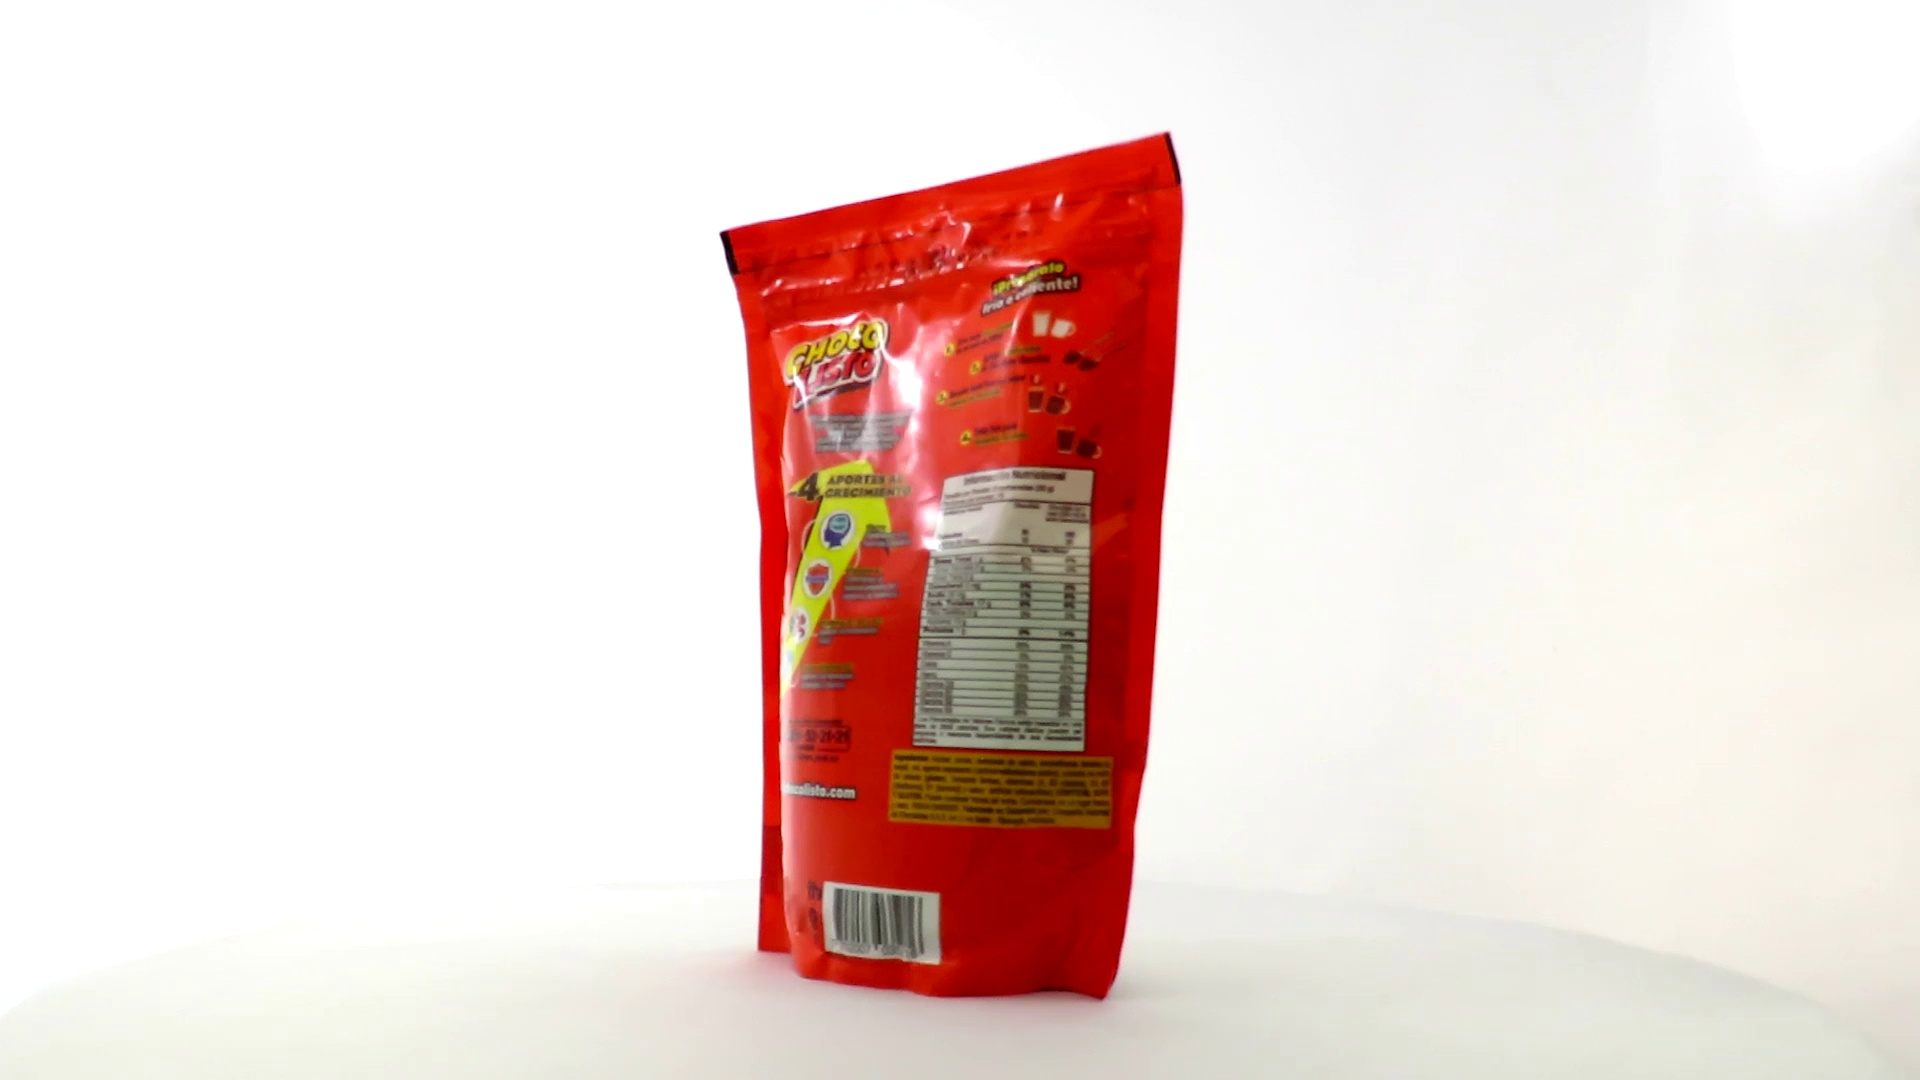COL0170103DYP36000: (713, 127, 1189, 1007)
